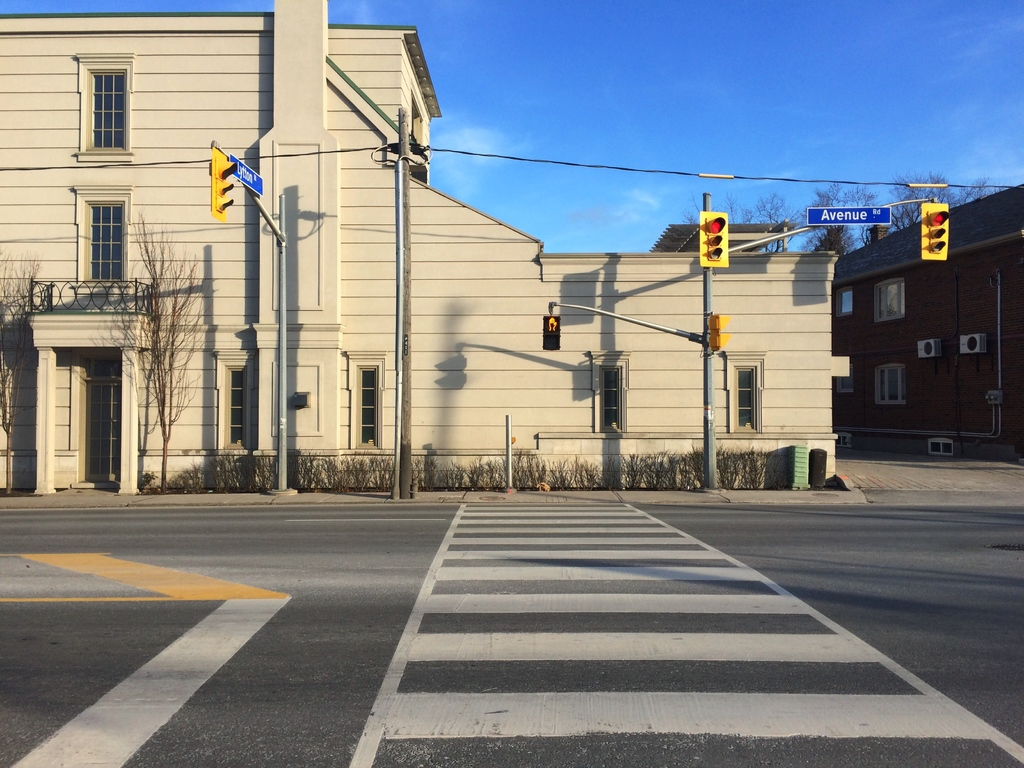red_light: (699, 212, 727, 268), (922, 203, 949, 257)
